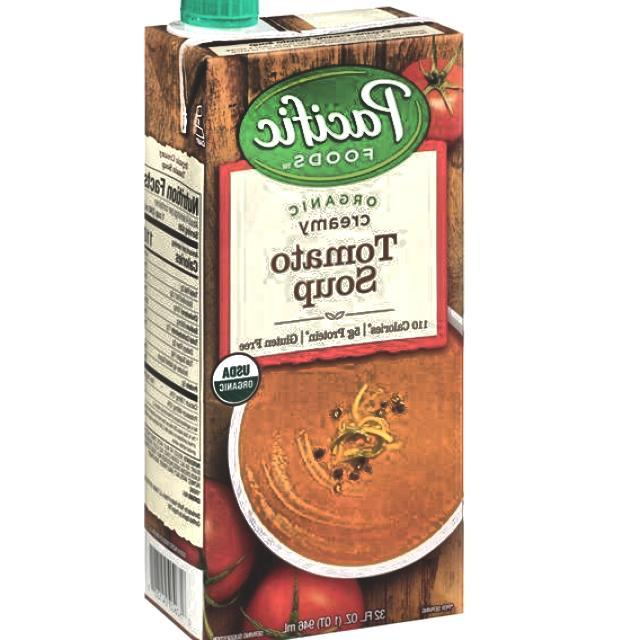cardboard: (143, 3, 468, 640)
